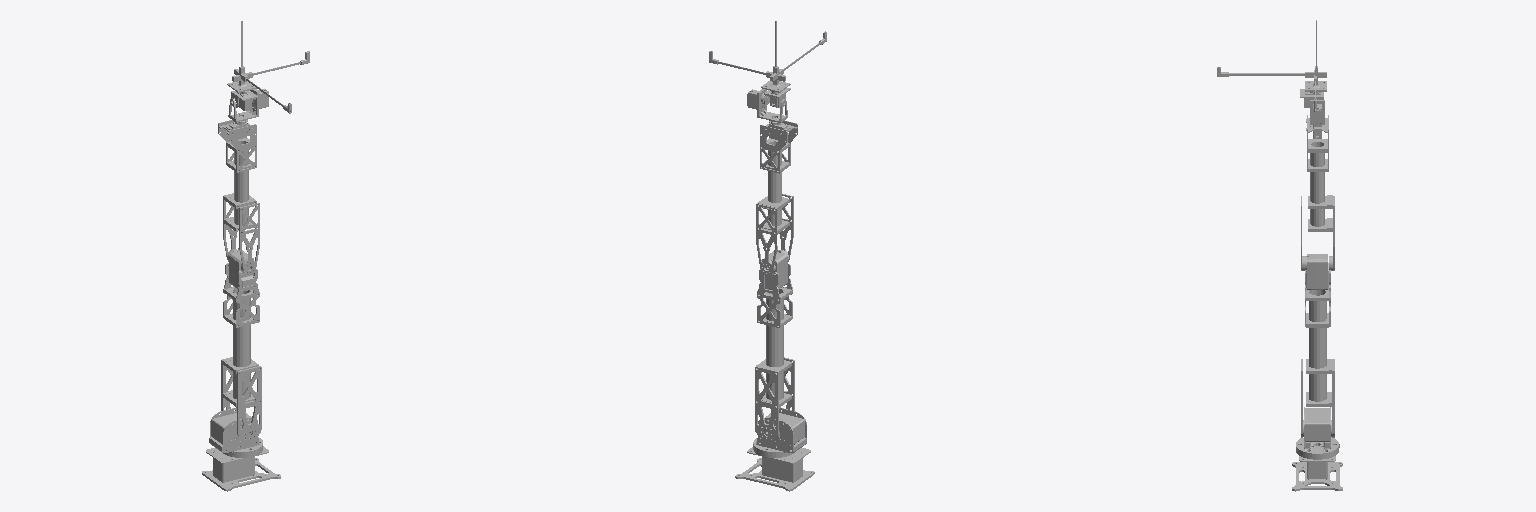
robot.urdf — robot_urdf:
<?xml version="1.0" encoding="utf-8"?>
<!-- This URDF was automatically created by SolidWorks to URDF Exporter! Originally created by [author] ([email redacted]) 
     Commit Version: 1.5.0-0-g9aa0fdb  Build Version: 1.5.7004.21443
     For more information, please see http://wiki.ros.org/sw_urdf_exporter -->
<robot  name="robot_urdf">
  <link    name="base_link">
    <visual>
      <origin        xyz="0 0 0"        rpy="0 0 0" />
      <geometry>
        <mesh          filename="package://robot_urdf/meshes/base_link.STL" />
      </geometry>
      <material        name="">
        <color          rgba="0.75294 0.75294 0.75294 1" />
      </material>
    </visual>
    <collision>
      <origin        xyz="0 0 0"        rpy="0 0 0" />
      <geometry>
        <mesh          filename="package://robot_urdf/meshes/base_link.STL" />
      </geometry>
    </collision>
  </link>

  <joint    name="revolute_joint_0"    type="revolute">
    <parent      link="base_link" />
    <child      link="link1" />
    <axis      xyz="0 0 -1" />
    <origin      xyz="0 0 0.0411"      rpy="0 0 0" />
    <limit      lower="-3.1416"      upper="3.1416"      effort="1000.0"      velocity="0.5" />
  </joint>

  <link
    name="link1">
    <visual>
      <origin
        xyz="0 0 0"
        rpy="0 0 0" />
      <geometry>
        <mesh
          filename="package://robot_urdf/meshes/link1.STL" />
      </geometry>
      <material
        name="">
        <color
          rgba="0.75294 0.75294 0.75294 1" />
      </material>
    </visual>
    <collision>
      <origin
        xyz="0 0 0"
        rpy="0 0 0" />
      <geometry>
        <mesh
          filename="package://robot_urdf/meshes/link1.STL" />
      </geometry>
    </collision>
  </link>

  <joint    name="revolute_joint_1"    type="revolute">
    <parent      link="link1" />
    <child      link="link2" />
    <axis      xyz="0 0 1" />
    <origin      xyz="0 0 0.0331"      rpy="1.5708 -1.5708 3.1416" />
    <limit      lower="-1.5708"      upper="1.5708"      effort="1000.0"      velocity="0.5" />
  </joint>

  <link
    name="link2">
    <visual>
      <origin
        xyz="0 0 0"
        rpy="0 0 0" />
      <geometry>
        <mesh
          filename="package://robot_urdf/meshes/link2.STL" />
      </geometry>
      <material
        name="">
        <color
          rgba="0.75294 0.75294 0.75294 1" />
      </material>
    </visual>
    <collision>
      <origin
        xyz="0 0 0"
        rpy="0 0 0" />
      <geometry>
        <mesh
          filename="package://robot_urdf/meshes/link2.STL" />
      </geometry>
    </collision>
  </link>

  <joint    name="revolute_joint_2"    type="revolute">
    <parent      link="link2" />
    <child      link="link3" />
    <axis      xyz="0 0 -1" />
    <origin      xyz="0.25 0 0"      rpy="0 0 -1.5708" />
    <limit      lower="-2.3562"      upper="2.3562"      effort="1000.0"      velocity="0.5" />
  </joint>


  <link
    name="link3">
    <visual>
      <origin
        xyz="0 0 0"
        rpy="0 0 0" />
      <geometry>
        <mesh
          filename="package://robot_urdf/meshes/link3.STL" />
      </geometry>
      <material
        name="">
        <color
          rgba="0.752941176470588 0.752941176470588 0.752941176470588 1" />
      </material>
    </visual>
    <collision>
      <origin
        xyz="0 0 0"
        rpy="0 0 0" />
      <geometry>
        <mesh
          filename="package://robot_urdf/meshes/link3.STL" />
      </geometry>
    </collision>
  </link>

  <joint    name="revolute_joint_3"    type="revolute">
    <parent      link="link3" />
    <child      link="link4" />
    <axis      xyz="0 0 1" />
    <origin      xyz="0 0.2194 0"      rpy="-1.5708 -1.5708 0" />
    <limit      lower="-2.3562"      upper="2.3562"      effort="1000.0"      velocity="0.5" />
  </joint>

  <link
    name="link4">
    <visual>
      <origin
        xyz="0 0 0"
        rpy="0 0 0" />
      <geometry>
        <mesh
          filename="package://robot_urdf/meshes/link4.STL" />
      </geometry>
      <material
        name="">
        <color
          rgba="0.752941176470588 0.752941176470588 0.752941176470588 1" />
      </material>
    </visual>
    <collision>
      <origin
        xyz="0 0 0"
        rpy="0 0 0" />
      <geometry>
        <mesh
          filename="package://robot_urdf/meshes/link4.STL" />
      </geometry>
    </collision>
  </link>

  <joint    name="revolute_joint_4"    type="revolute">
    <parent      link="link4" />
    <child      link="link5" />
    <axis      xyz="0 0 1" />
    <origin      xyz="0 0 0.026516"      rpy="1.5708 -1.5708 0" />
    <limit      lower="-1.5708"      upper="1.5708"      effort="1000.0"      velocity="0.5" />
  </joint>

  <link
    name="link5">
    <visual>
      <origin
        xyz="0 0 0"
        rpy="0 0 0" />
      <geometry>
        <mesh
          filename="package://robot_urdf/meshes/link5.STL" />
      </geometry>
      <material
        name="">
        <color
          rgba="0.752941176470588 0.752941176470588 0.752941176470588 1" />
      </material>
    </visual>
    <collision>
      <origin
        xyz="0 0 0"
        rpy="0 0 0" />
      <geometry>
        <mesh
          filename="package://robot_urdf/meshes/link5.STL" />
      </geometry>
    </collision>
  </link>

  <joint    name="revolute_joint_5"    type="revolute">
    <parent      link="link5" />
    <child      link="link6" />
    <axis      xyz="0 0 1" />
    <origin      xyz="0.02085 0.0017632 0"      rpy="1.5708 0 1.5708" />
    <limit      lower="-2.3562"      upper="2.3562"      effort="1000.0"      velocity="0.5" />
  </joint>

  <link
    name="link6">
    <visual>
      <origin
        xyz="0 0 0"
        rpy="0 0 0" />
      <geometry>
        <mesh
          filename="package://robot_urdf/meshes/end_link.STL" />
      </geometry>
      <material
        name="">
        <color
          rgba="0.752941176470588 0.752941176470588 0.752941176470588 1" />
      </material>
    </visual>
    <collision>
      <origin
        xyz="0 0 0"
        rpy="0 0 0" />
      <geometry>
        <mesh
          filename="package://robot_urdf/meshes/end_link.STL" />
      </geometry>
    </collision>
  </link>

  <joint    name="fixed_joint_0"    type="fixed">
    <parent      link="link6" />
    <child      link="end_link" />
    <origin      xyz="0 0 0.07"      rpy="0 0 0" />
  </joint>

  <link
    name="end_link">
  </link>

</robot>

--- Render facts (derived) ---
Views: 3 orthographic renders of the robot side by side, from view 1: azimuth 30°, elevation 25°; view 2: azimuth 150°, elevation 25°; view 3: azimuth 270°, elevation 25°.
Robot: robot_urdf — 8 links, 7 joints (6 revolute, 1 fixed); root link base_link; default pose: all joints at 0.
Links seen in each view (by area): view 1: link2, link3, base_link, link1, link6, link4; view 2: link2, link3, base_link, link1, link6, link4; view 3: link2, link3, link1, base_link, link6.
Link boxes in pixels (box(x1,y1,x2,y2)): link2: box(221, 250, 261, 441); link3: box(218, 116, 259, 274); base_link: box(202, 446, 280, 491); link1: box(209, 408, 262, 457); link6: box(227, 21, 309, 113); link4: box(228, 89, 268, 121); link2: box(755, 251, 794, 441); link3: box(756, 117, 797, 275); base_link: box(735, 447, 814, 491); link1: box(753, 408, 806, 457); link6: box(709, 21, 826, 92); link4: box(747, 89, 787, 122); link2: box(1301, 254, 1334, 437); link3: box(1301, 115, 1334, 270); link1: box(1296, 407, 1339, 459); base_link: box(1292, 438, 1342, 491); link6: box(1217, 20, 1326, 111).
Bounding box of the posed robot: 0.1515 × 0.1733 × 0.691 m (x, y, z).
7 mesh visuals loaded from 7 distinct referenced files (7 binary STL).